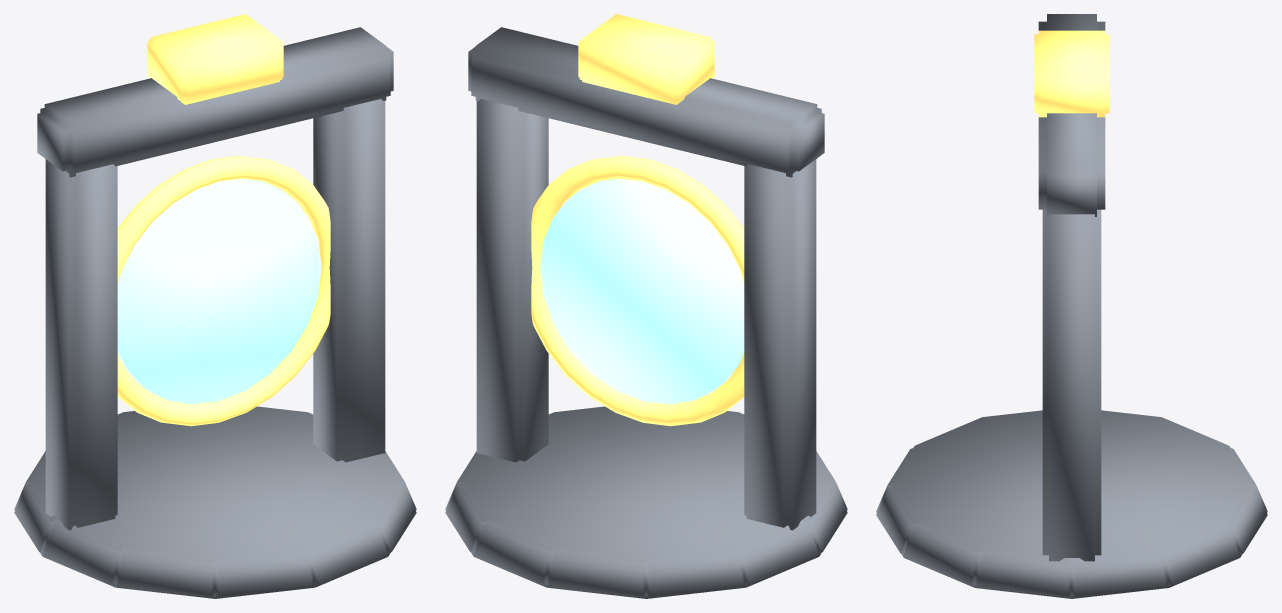
The model's file is exit-portal.glb.
3 views of the same model, side by side, from view 1: azimuth 30°, elevation 25°; view 2: azimuth 150°, elevation 25°; view 3: azimuth 270°, elevation 25° (orthographic). The views are drawn at different scales.
Visible parts, largest first — view 1: Portal_Arch, Portal_Ring; view 2: Portal_Arch, Portal_Ring; view 3: Portal_Arch.
Part boxes in pixels (left/top/right/bottom): Portal_Arch: left=14, top=14, right=416, bottom=598; Portal_Ring: left=117, top=155, right=330, bottom=426; Portal_Arch: left=445, top=14, right=847, bottom=598; Portal_Ring: left=531, top=155, right=744, bottom=426; Portal_Arch: left=876, top=14, right=1267, bottom=598.
Size of the model in its own units: 1.88 by 2.45 by 1.88.
